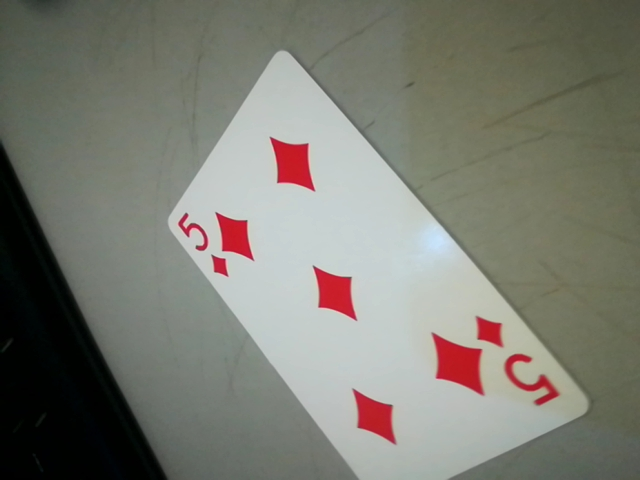fk 5: (474, 309, 568, 409)
